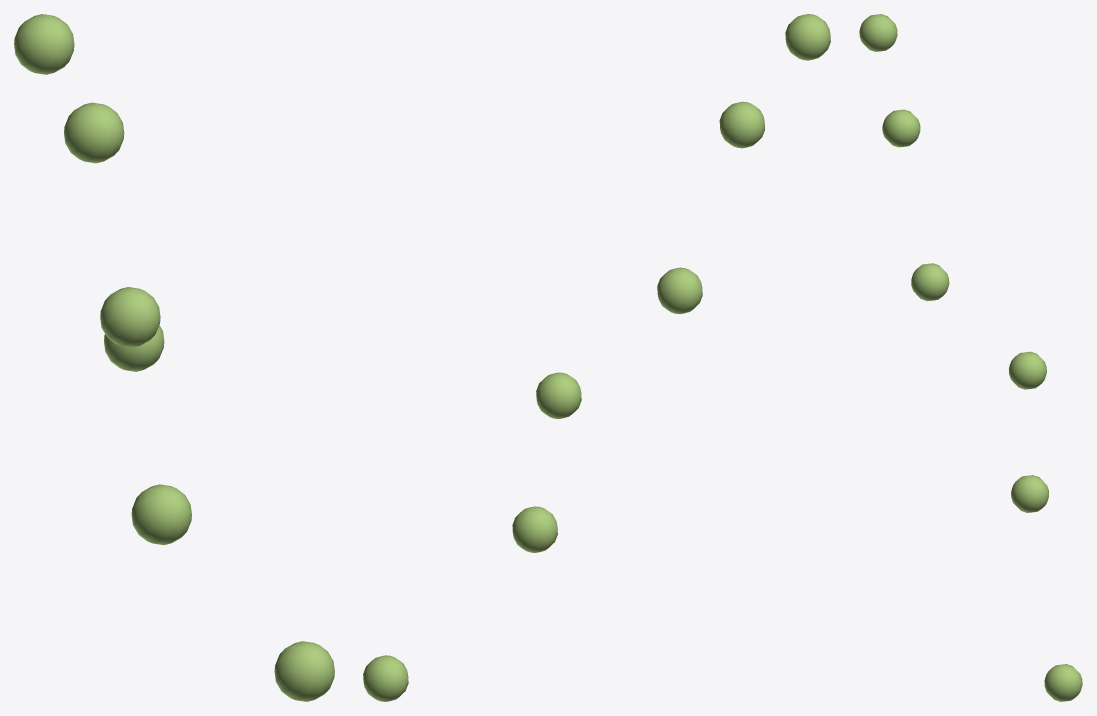
File: posterior-axillary-nodes-l.glb
The picture shows the model from 3 angles, left to right: view 1: azimuth 30°, elevation 25°; view 2: azimuth 150°, elevation 25°; view 3: azimuth 270°, elevation 25°; orthographic projection. The views are drawn at different scales.
Parts seen in each view (by area): view 1: Posterior axillary nodes.l; view 2: Posterior axillary nodes.l; view 3: Posterior axillary nodes.l.
Boxes of the visible parts, x1,y1,x2,y2 form: Posterior axillary nodes.l: (14,14,334,701); Posterior axillary nodes.l: (363,14,830,701); Posterior axillary nodes.l: (859,14,1082,701).
Bounding box in the file's own units: 0.0225 × 0.0415 × 0.015.
